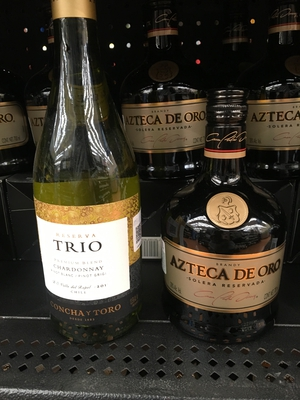trio chardonnay: (22, 2, 162, 337)
